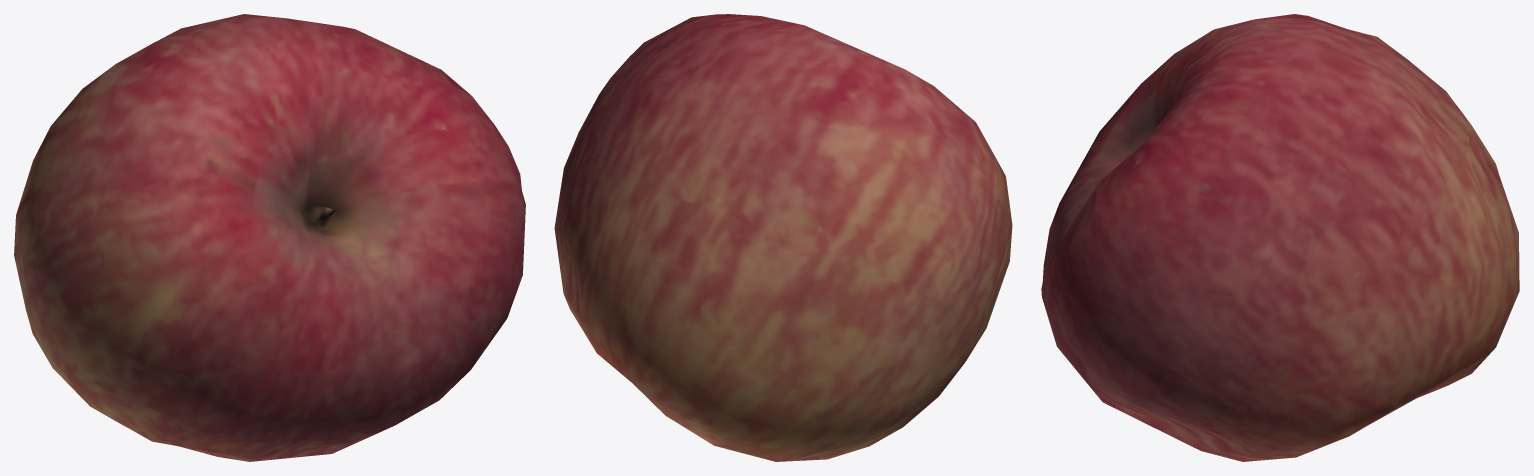
The model's file is ref_apple.glb.
The picture shows the model from 3 angles, left to right: view 1: azimuth 30°, elevation 25°; view 2: azimuth 150°, elevation 25°; view 3: azimuth 270°, elevation 25°; orthographic projection. The views are drawn at different scales.
Visible parts, largest first — view 1: ref_apple_part0; view 2: ref_apple_part0; view 3: ref_apple_part0.
Part boxes in pixels (x1,y1,x2,y2): ref_apple_part0: (14,14,525,461); ref_apple_part0: (554,14,1012,461); ref_apple_part0: (1041,14,1519,461).
Bounding box in the file's own units: 1 × 0.9157 × 0.9814.
1 material, 1 textured.
